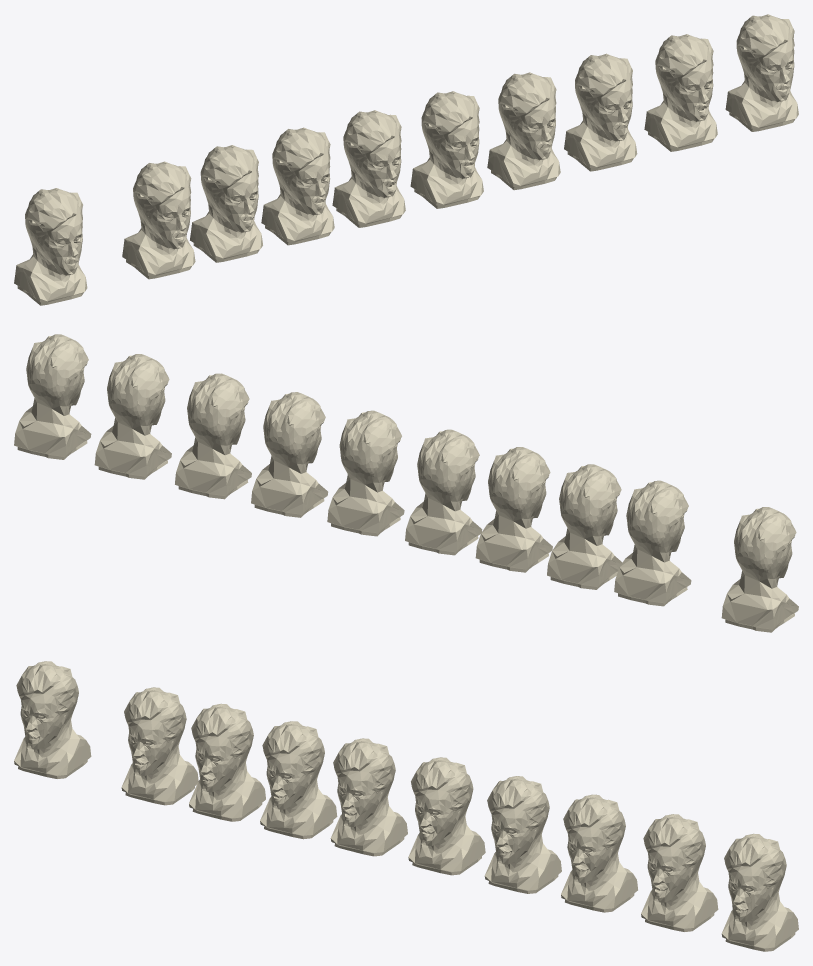
File: Bruce.obj
3 views of the same model, one above another, from view 1: azimuth 30°, elevation 25°; view 2: azimuth 150°, elevation 25°; view 3: azimuth 330°, elevation 25° (orthographic).
Visible parts, largest first — view 1: bruce_base_geo, bruce_bs_grp bruce_bs_phoneme_s, bruce_bs_phoneme_e bruce_bs_grp, bruce_bs_grp bruce_bs_phoneme_i, bruce_bs_grp bruce_bs_phoneme_l, bruce_bs_grp bruce_bs_phoneme_a, bruce_bs_grp bruce_bs_phoneme_u, bruce_bs_grp bruce_bs_phoneme_f, bruce_bs_grp bruce_bs_phoneme_o, bruce_bs_grp bruce_bs_phoneme_m; view 2: bruce_bs_grp bruce_bs_phoneme_s, bruce_bs_grp bruce_bs_phoneme_f, bruce_bs_grp bruce_bs_phoneme_a, bruce_bs_grp bruce_bs_phoneme_i, bruce_bs_grp bruce_bs_phoneme_u, bruce_base_geo, bruce_bs_grp bruce_bs_phoneme_o, bruce_bs_grp bruce_bs_phoneme_l, bruce_bs_grp bruce_bs_phoneme_m, bruce_bs_phoneme_e bruce_bs_grp; view 3: bruce_bs_grp bruce_bs_phoneme_s, bruce_bs_grp bruce_bs_phoneme_u, bruce_bs_grp bruce_bs_phoneme_o, bruce_bs_grp bruce_bs_phoneme_a, bruce_bs_grp bruce_bs_phoneme_m, bruce_bs_phoneme_e bruce_bs_grp, bruce_bs_grp bruce_bs_phoneme_f, bruce_base_geo, bruce_bs_grp bruce_bs_phoneme_i, bruce_bs_grp bruce_bs_phoneme_l.
Boxes of the visible parts, bbox=[...] form: bruce_base_geo: bbox=[14, 188, 87, 305]; bruce_bs_grp bruce_bs_phoneme_s: bbox=[725, 14, 798, 131]; bruce_bs_phoneme_e bruce_bs_grp: bbox=[190, 145, 262, 262]; bruce_bs_grp bruce_bs_phoneme_i: bbox=[261, 127, 334, 245]; bruce_bs_grp bruce_bs_phoneme_l: bbox=[644, 34, 717, 151]; bruce_bs_grp bruce_bs_phoneme_a: bbox=[122, 161, 195, 279]; bruce_bs_grp bruce_bs_phoneme_u: bbox=[410, 91, 483, 208]; bruce_bs_grp bruce_bs_phoneme_f: bbox=[487, 72, 560, 190]; bruce_bs_grp bruce_bs_phoneme_o: bbox=[332, 110, 405, 227]; bruce_bs_grp bruce_bs_phoneme_m: bbox=[564, 53, 637, 171]; bruce_bs_grp bruce_bs_phoneme_s: bbox=[14, 334, 91, 459]; bruce_bs_grp bruce_bs_phoneme_f: bbox=[251, 392, 328, 517]; bruce_bs_grp bruce_bs_phoneme_a: bbox=[614, 480, 691, 606]; bruce_bs_grp bruce_bs_phoneme_i: bbox=[475, 447, 552, 572]; bruce_bs_grp bruce_bs_phoneme_u: bbox=[327, 410, 404, 536]; bruce_base_geo: bbox=[721, 507, 798, 632]; bruce_bs_grp bruce_bs_phoneme_o: bbox=[405, 429, 482, 555]; bruce_bs_grp bruce_bs_phoneme_l: bbox=[94, 354, 171, 479]; bruce_bs_grp bruce_bs_phoneme_m: bbox=[175, 373, 251, 499]; bruce_bs_phoneme_e bruce_bs_grp: bbox=[547, 464, 622, 589]; bruce_bs_grp bruce_bs_phoneme_s: bbox=[721, 833, 798, 951]; bruce_bs_grp bruce_bs_phoneme_u: bbox=[408, 757, 485, 875]; bruce_bs_grp bruce_bs_phoneme_o: bbox=[330, 738, 407, 856]; bruce_bs_grp bruce_bs_phoneme_a: bbox=[121, 687, 198, 805]; bruce_bs_grp bruce_bs_phoneme_m: bbox=[561, 794, 637, 912]; bruce_bs_phoneme_e bruce_bs_grp: bbox=[189, 703, 265, 821]; bruce_bs_grp bruce_bs_phoneme_f: bbox=[484, 776, 561, 893]; bruce_base_geo: bbox=[14, 661, 91, 778]; bruce_bs_grp bruce_bs_phoneme_i: bbox=[260, 721, 337, 839]; bruce_bs_grp bruce_bs_phoneme_l: bbox=[641, 814, 718, 931].
Bounding box in the file's own units: 246 × 32.41 × 21.9.
